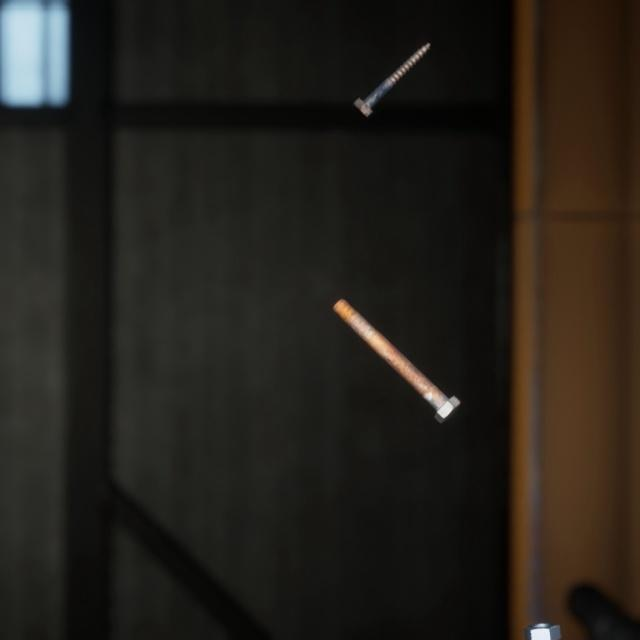bolt: (328, 277, 465, 409), (348, 28, 435, 113)
nut: (519, 594, 565, 624)
